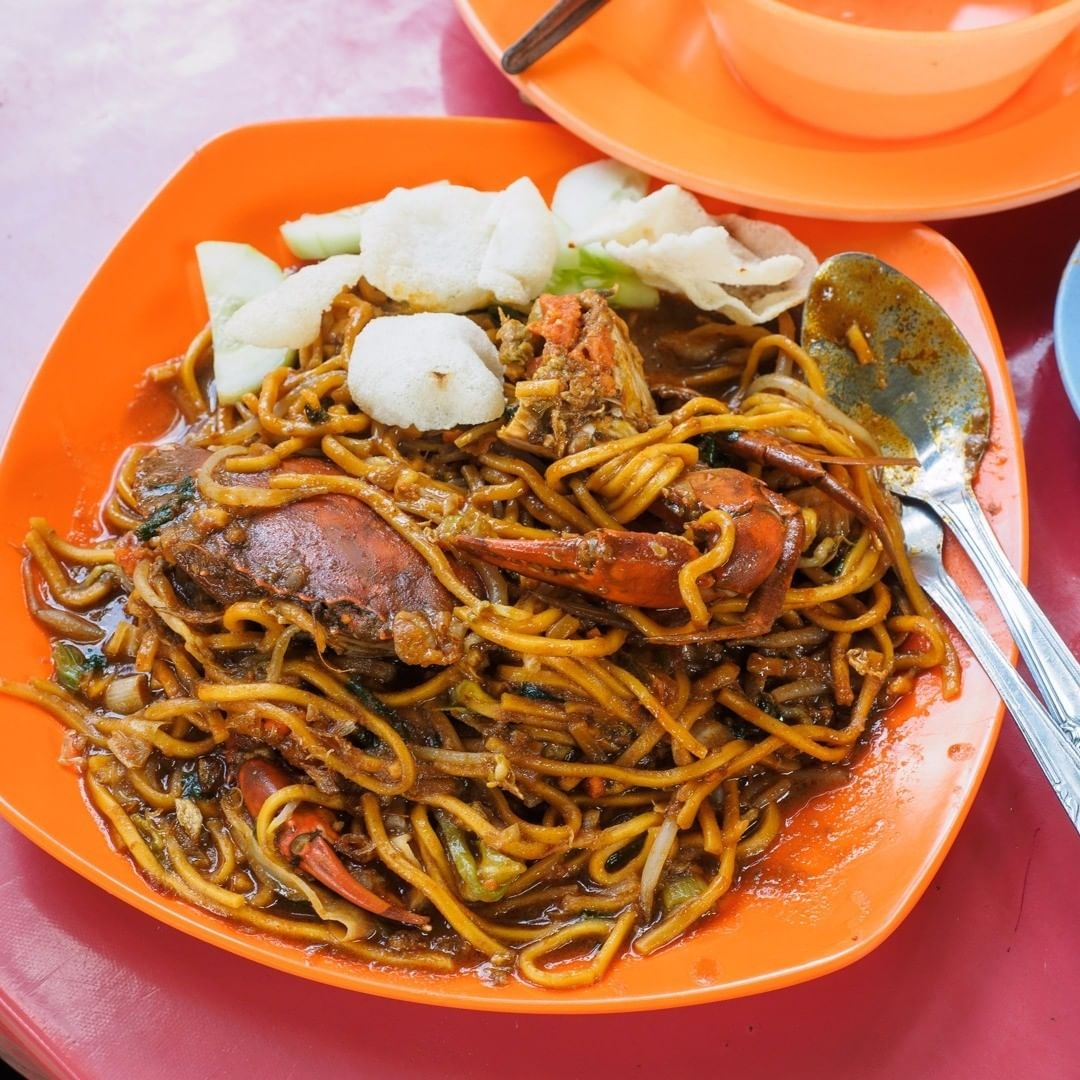mie_aceh: (56, 290, 921, 989)
